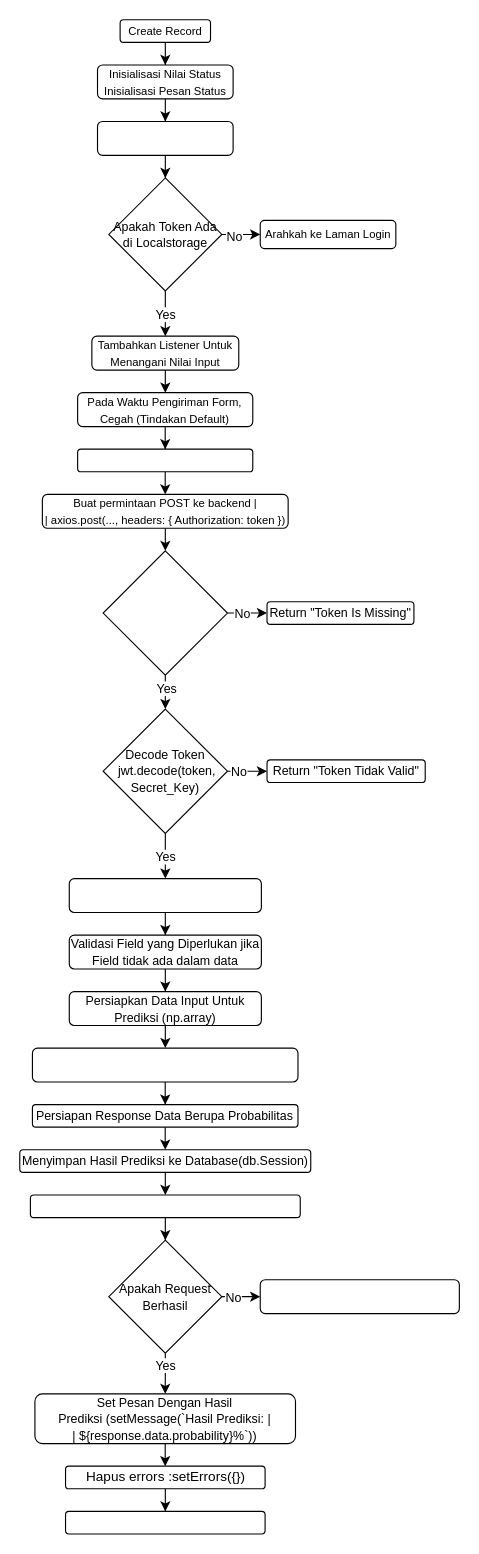
This 479x1554 diagram has some shape labels left out. Here are the shapes that lost their labels. From the top down, the box of each, then its label:
(96, 120, 233, 155): Pada Saat dipasang ,Cek Token Pada LocalStorage
(77, 448, 253, 472): Dapatkan token dari localStorage
(102, 550, 227, 675): Apakah Token Ada Pada Request?
(68, 877, 261, 912): Get Data JSON dari Request || request.get_json(force=True)
(31, 1047, 298, 1082): Memprediksi Kemungkinan Terkena Diabetes | | Menggunakan Model Yang Telah Dibuat
(29, 1194, 300, 1218): Return Data Response ke Dalam Format JSON
(259, 1279, 459, 1314): setErrors(kesalahan.respon .data.kesalahan)
(64, 1510, 265, 1534): End
